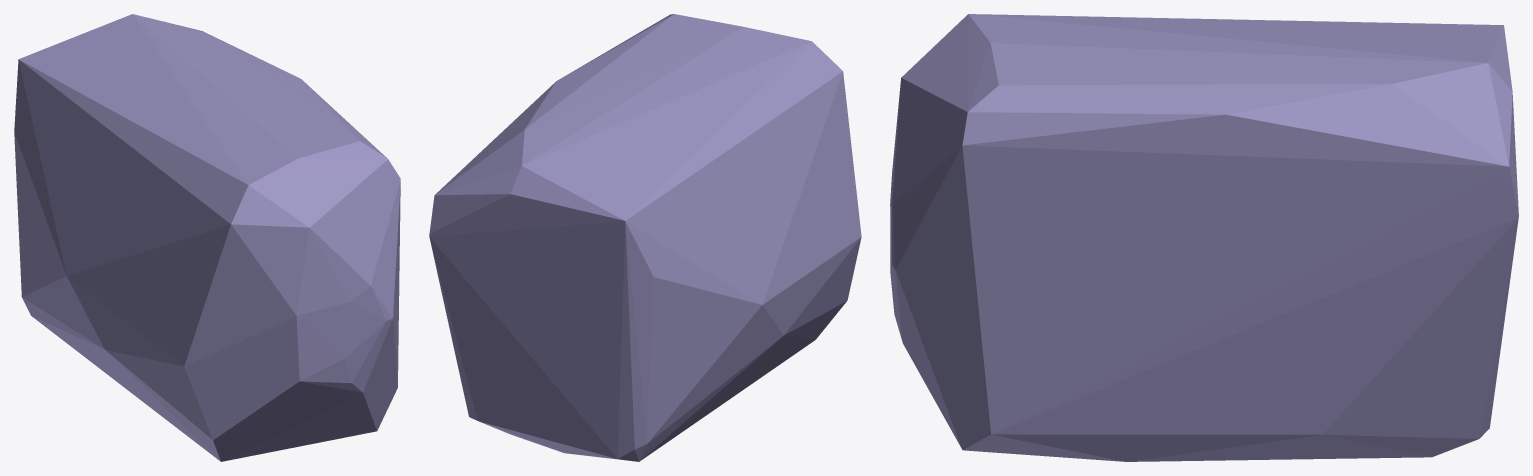
File: coolingSystem_windshield_washer_reservoir_a01.glb
3 renders of one model, left to right at view 1: azimuth 30°, elevation 25°; view 2: azimuth 150°, elevation 25°; view 3: azimuth 270°, elevation 25°, orthographic. The views are drawn at different scales.
Visible parts, largest first — view 1: geometry_0; view 2: geometry_0; view 3: geometry_0.
Boxes of the visible parts, bbox=[...] form: geometry_0: bbox=[14, 14, 400, 461]; geometry_0: bbox=[429, 14, 861, 461]; geometry_0: bbox=[890, 14, 1518, 461].
Size of the model in its own units: 0.2625 by 0.3167 by 0.4787.
